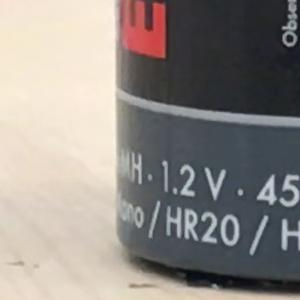keyword: (157, 205, 249, 247)
